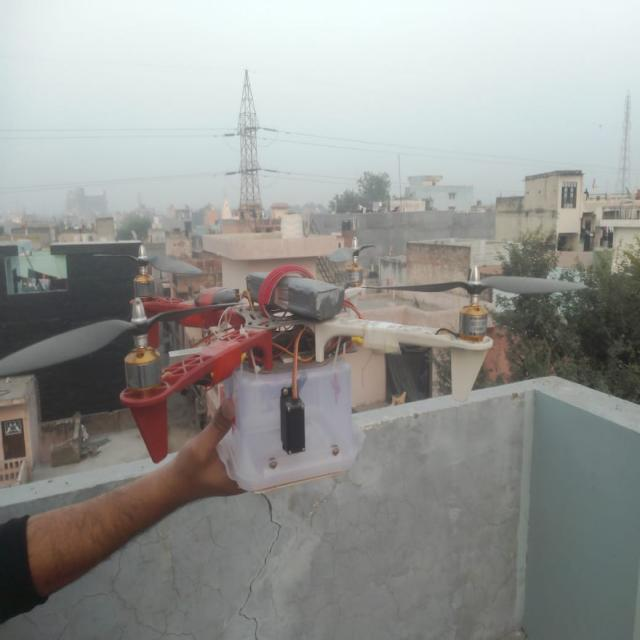Drone THREAT: (42, 277, 514, 494)
